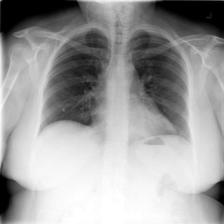normal: (35, 19, 197, 147)
